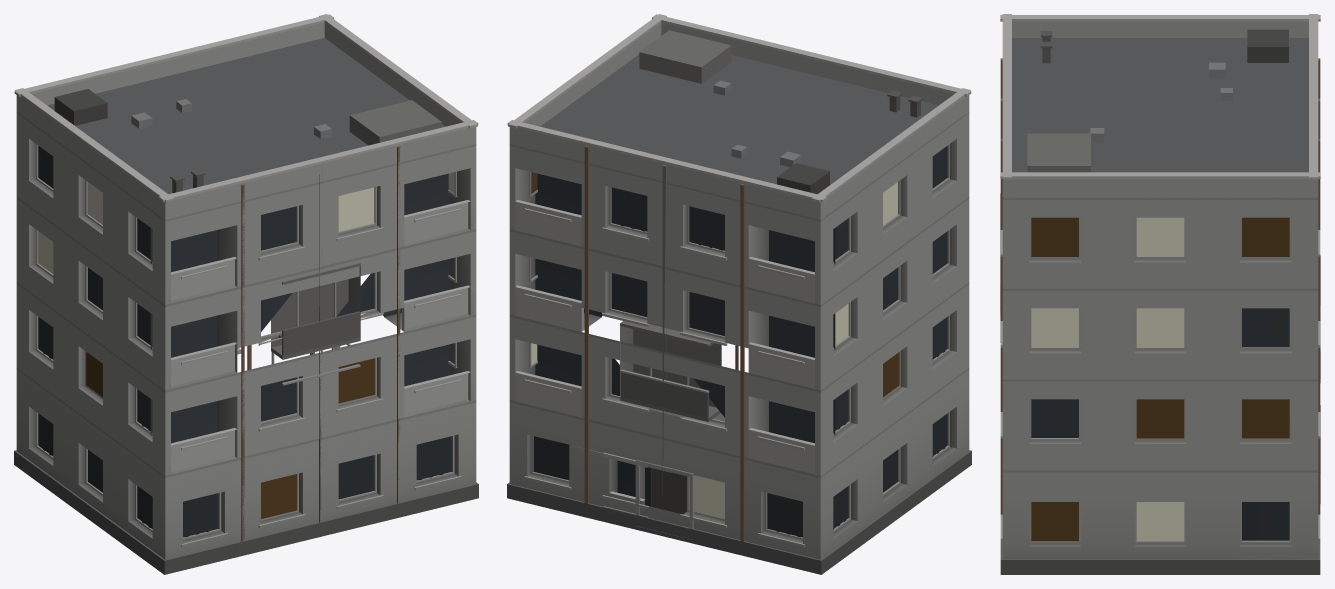
Rendered from building_tall.glb.
The picture shows the model from 3 angles, left to right: view 1: azimuth 30°, elevation 25°; view 2: azimuth 150°, elevation 25°; view 3: azimuth 270°, elevation 25°; orthographic projection. The views are drawn at different scales.
Visible parts, largest first — view 1: building_tall; view 2: building_tall; view 3: building_tall.
Part boxes in pixels (<box>): building_tall: <box>14,14,478,574</box>; building_tall: <box>507,14,971,574</box>; building_tall: <box>1000,14,1320,574</box>.
Size of the model in its own units: 12.14 by 13.79 by 10.06.
